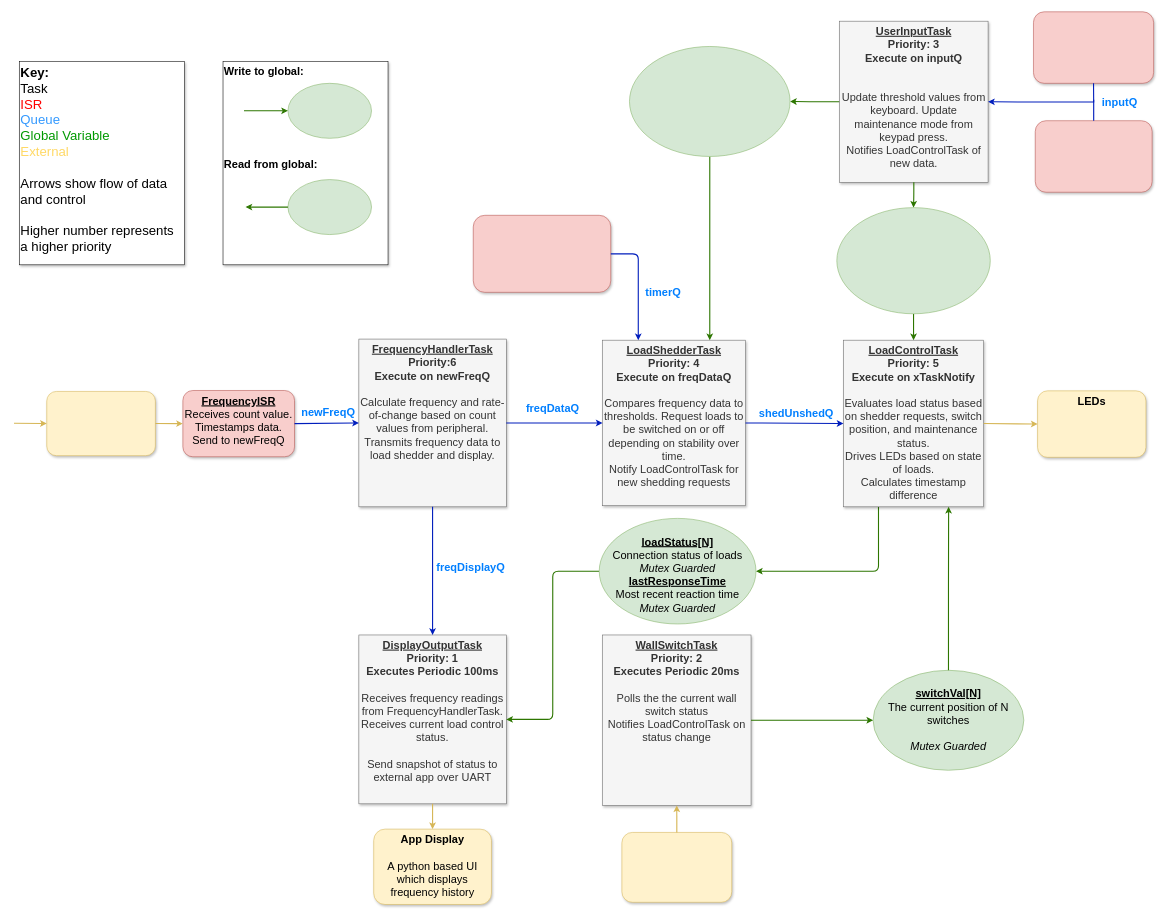
The diagram is 1167 pixels wide and 918 high, and some of its shapes have lost their labels. Here are the shapes that lost their labels. From the top down, the centre of each, then its label:
At point 1094,48: "KeyboardISR Trigger on new ps/2 keyboard input Send to inputQ".
At point 709,101: "threshVal Holds the currently set frequency and RoC thresholds Mutex Guarded".
At point 1094,157: "ButtonISR Trigger on button press Send special character to inputQ".
At point 542,254: "TimerISR A 500ms timer for shedding/unshedding Send timer expire to timerQ".
At point 913,260: "isMaintenance Holds the current maintenace state Mutex Guarded".
At point 101,424: "FrequencyAnalyser".
At point 677,868: "Switches".
